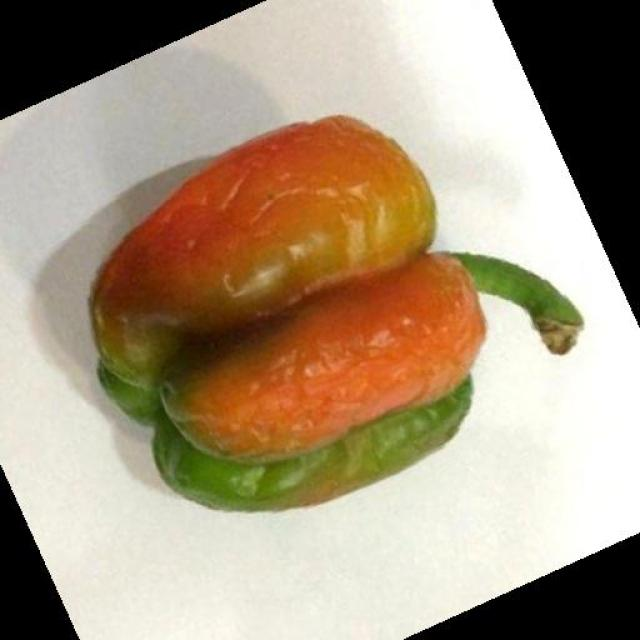Stale_Capsicum: (62, 117, 560, 501)
